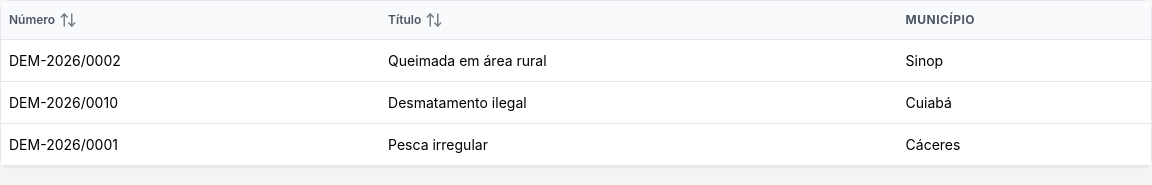
DataTable › ordena localmente ao clicar no cabeçalho, alternando asc/desc
Step 1. Click the button "Número" → (43, 20), box [9, 11, 77, 29]
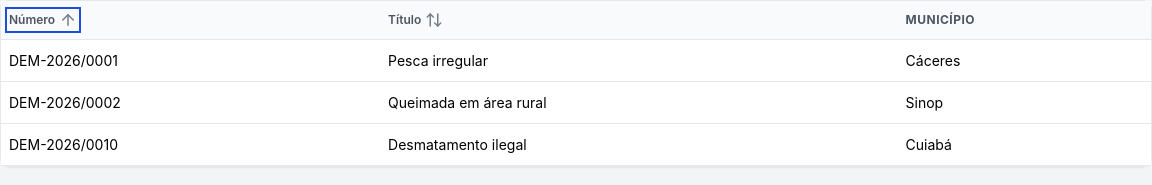
expect the column heading "Número" has attribute aria-sort="ascending": met, box [1, 1, 380, 40]
Step 2. Click the button "Número" → (43, 20), box [9, 11, 77, 29]
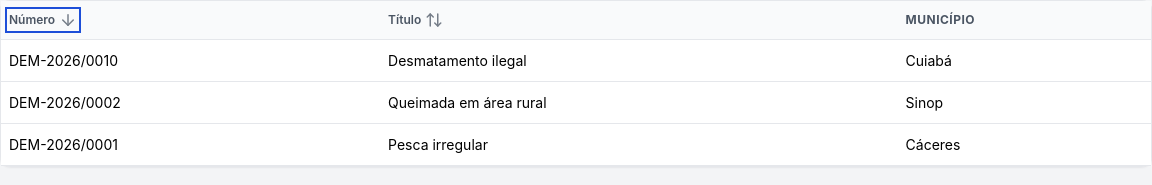
expect the column heading "Número" has attribute aria-sort="descending": met, box [1, 1, 380, 40]
